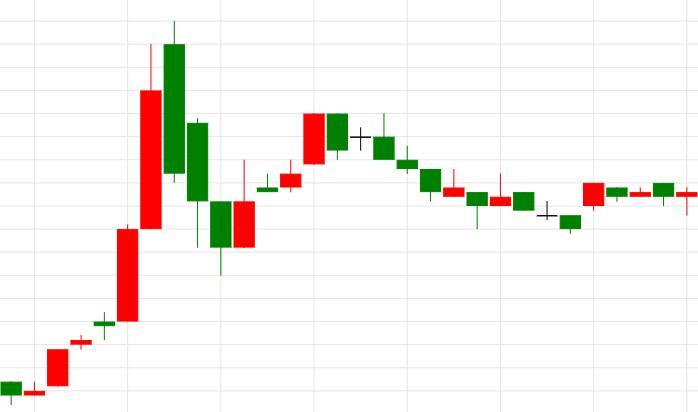three_black_crows_fall: (23, 20, 232, 396)
